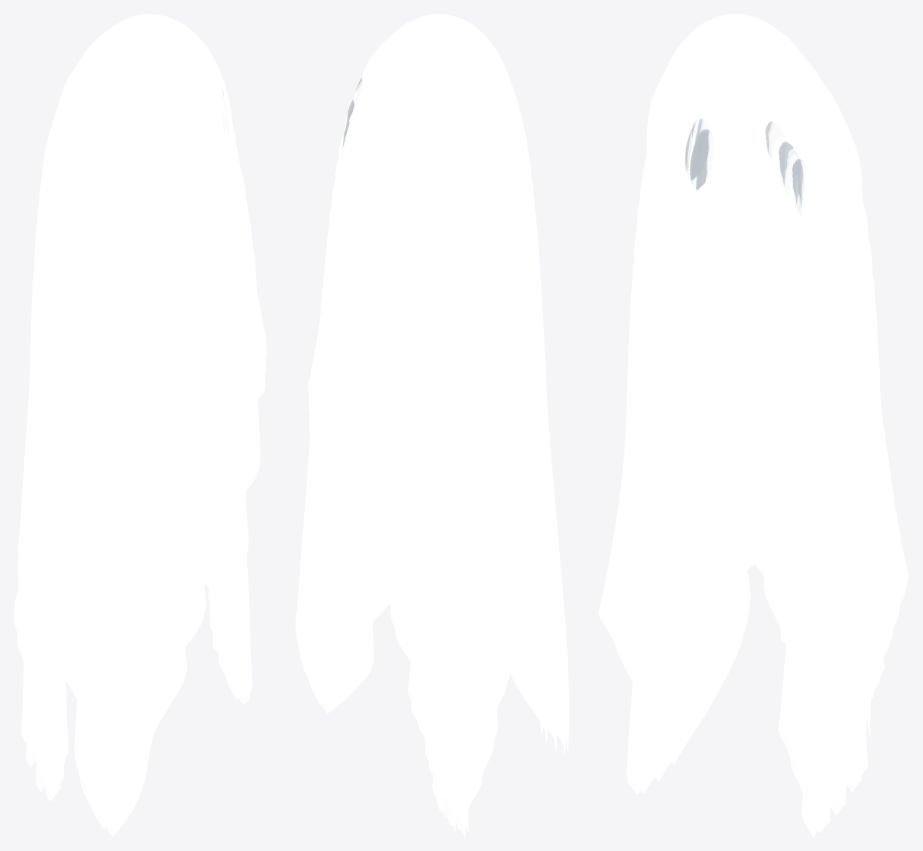
The model's file is strasidlo.glb.
3 views of the same model, side by side, from view 1: azimuth 30°, elevation 25°; view 2: azimuth 150°, elevation 25°; view 3: azimuth 270°, elevation 25° (orthographic). The views are drawn at different scales.
Visible parts, largest first — view 1: strasidlo_telo_02, strasidlo_telo_03, strasidlo_telo_06, strasidlo_telo_07, strasidlo_telo_01, strasidlo_telo_00, strasidlo_telo_04, strasidlo_telo_05; view 2: strasidlo_telo_02, strasidlo_telo_01, strasidlo_telo_06, strasidlo_telo_05, strasidlo_telo_03, strasidlo_telo_04, strasidlo_telo_00, strasidlo_telo_07; view 3: strasidlo_telo_02, strasidlo_telo_01, strasidlo_telo_04, strasidlo_telo_05, strasidlo_telo_03, strasidlo_telo_00, strasidlo_telo_07, strasidlo_telo_06.
Boxes of the visible parts, x1,y1,x2,y2 form: strasidlo_telo_02: (16, 14, 266, 607); strasidlo_telo_03: (29, 24, 265, 509); strasidlo_telo_06: (28, 386, 264, 836); strasidlo_telo_07: (23, 374, 265, 828); strasidlo_telo_01: (14, 20, 266, 770); strasidlo_telo_00: (17, 314, 266, 804); strasidlo_telo_04: (30, 53, 264, 588); strasidlo_telo_05: (29, 98, 264, 792); strasidlo_telo_02: (297, 14, 547, 798); strasidlo_telo_01: (309, 27, 556, 805); strasidlo_telo_06: (309, 112, 565, 836); strasidlo_telo_05: (308, 103, 557, 831); strasidlo_telo_03: (295, 41, 545, 804); strasidlo_telo_04: (299, 83, 547, 817); strasidlo_telo_00: (309, 69, 565, 818); strasidlo_telo_07: (310, 98, 569, 831); strasidlo_telo_02: (625, 14, 908, 775); strasidlo_telo_01: (624, 39, 882, 729); strasidlo_telo_04: (612, 53, 899, 814); strasidlo_telo_05: (601, 74, 893, 833); strasidlo_telo_03: (624, 21, 905, 791); strasidlo_telo_00: (621, 69, 899, 748); strasidlo_telo_07: (602, 84, 893, 776); strasidlo_telo_06: (598, 88, 889, 836).
Size of the model in its own units: 0.6242 by 2.03 by 0.6722.
Materials: 1 (1 with a texture image).
